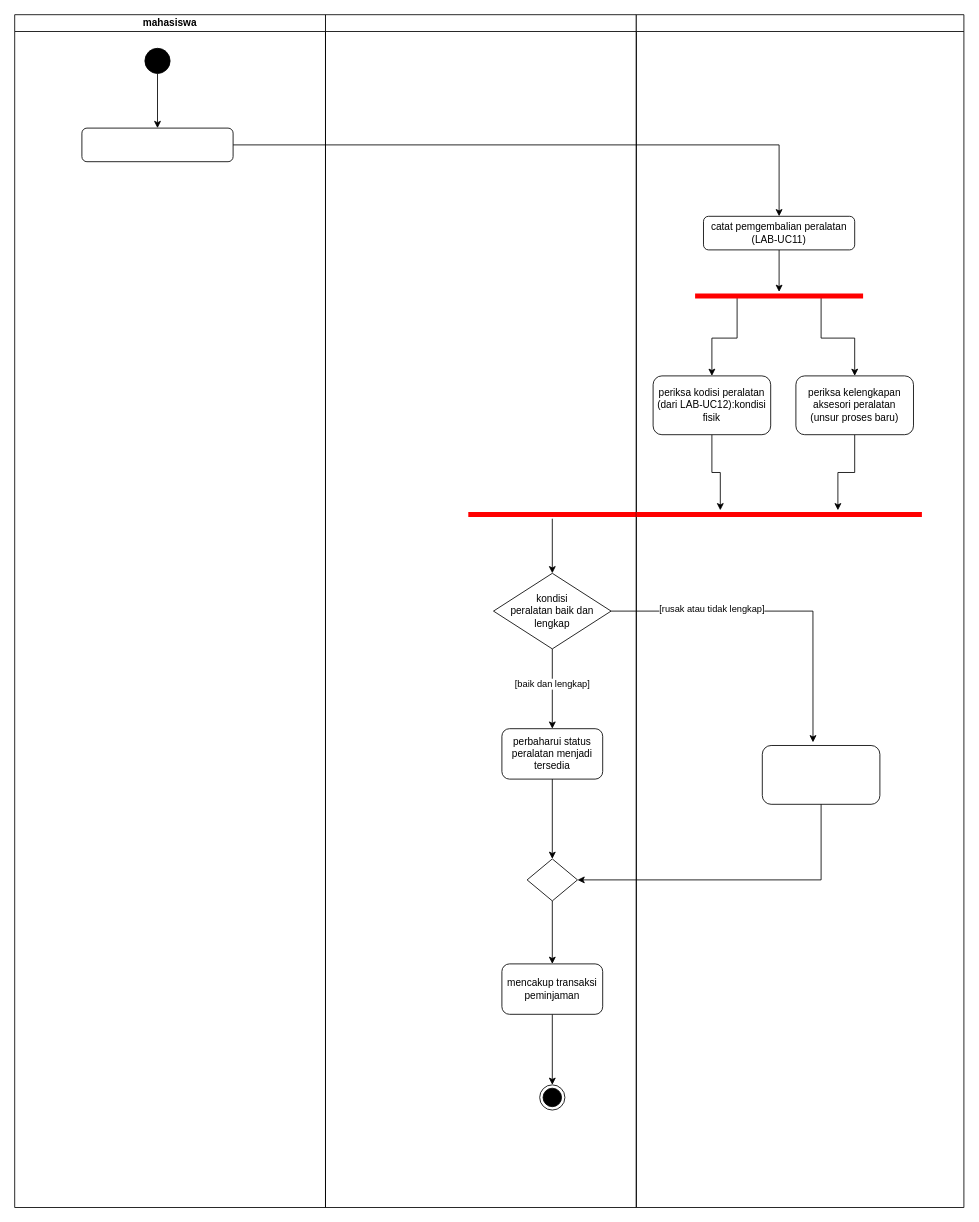
The diagram is 979 pixels wide and 1222 high, and some of its shapes have lost their labels. The shapes that lost their labels are listed below. From the top down, each one's box as (x1, y1, x2, y2) in pixels, then its label:
(81, 127, 233, 162): menerima peralatan yang dipinjam
(325, 14, 636, 1208): sistem
(635, 14, 964, 1208): petugas lab
(761, 745, 880, 804): catat kerusakan atau kekurangan dan jadwalkan perbaikan
